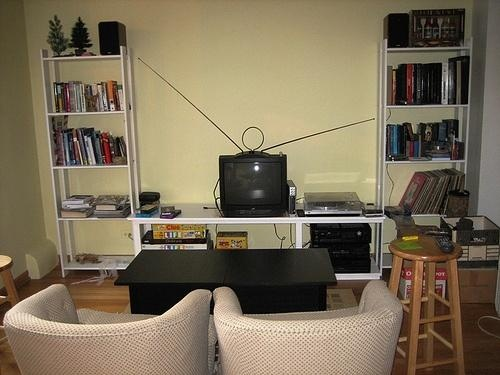chair: (9, 284, 214, 374), (213, 287, 403, 375)
tvmonitor: (219, 153, 290, 217)
